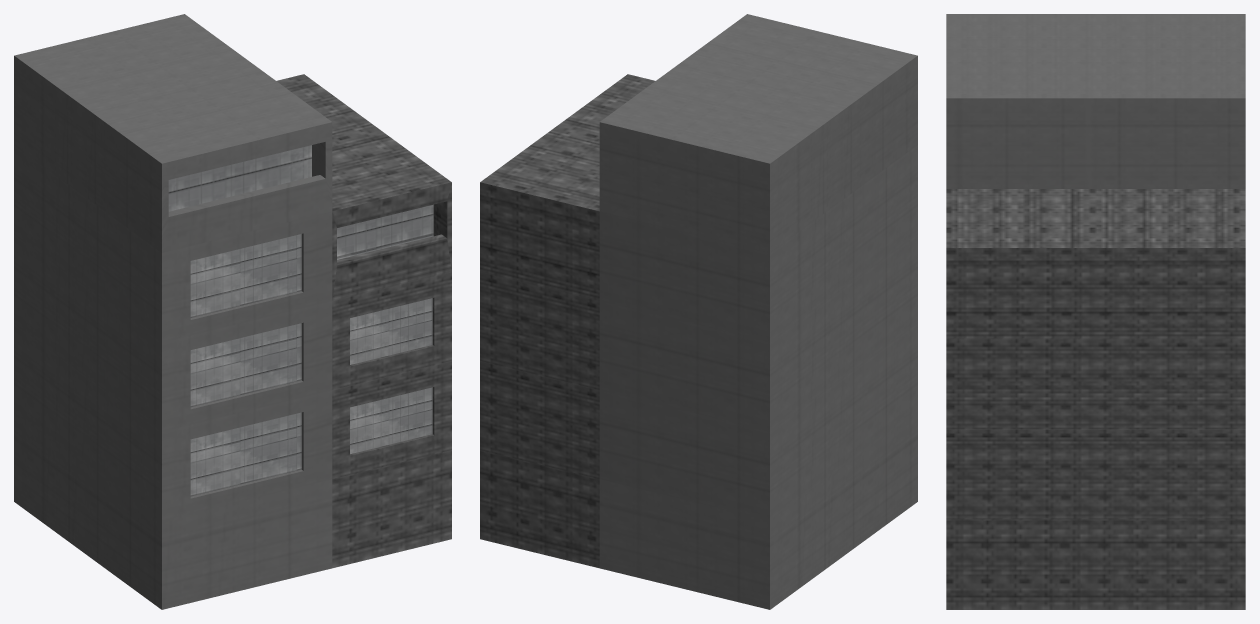
The model's file is BgMD_Building_07_01.fbx.
3 renders of one model, left to right at view 1: azimuth 30°, elevation 25°; view 2: azimuth 150°, elevation 25°; view 3: azimuth 270°, elevation 25°, orthographic.
Visible parts, largest first — view 1: pCube150; view 2: pCube150; view 3: pCube150.
Part boxes in pixels (<box>): pCube150: <box>14,14,451,609</box>; pCube150: <box>480,14,917,609</box>; pCube150: <box>946,14,1245,609</box>.
Bounding box in the file's own units: 1700 × 2500 × 1500.
